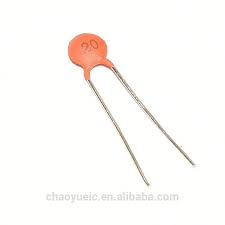ceramic capacitor: (35, 10, 136, 114)
